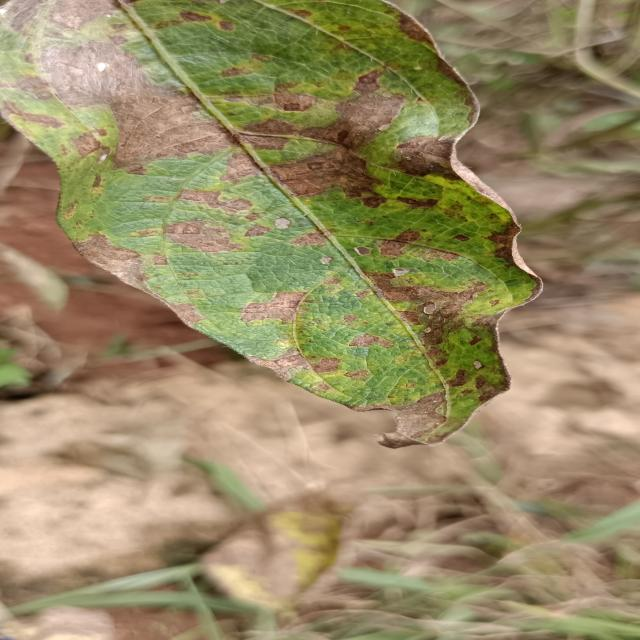Black gram_leaf spot: (0, 0, 559, 453)
